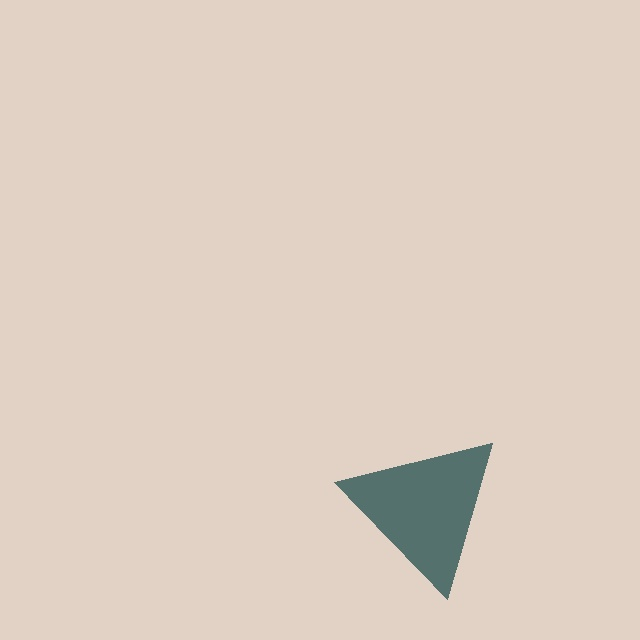triangle: (333, 443, 492, 600)
